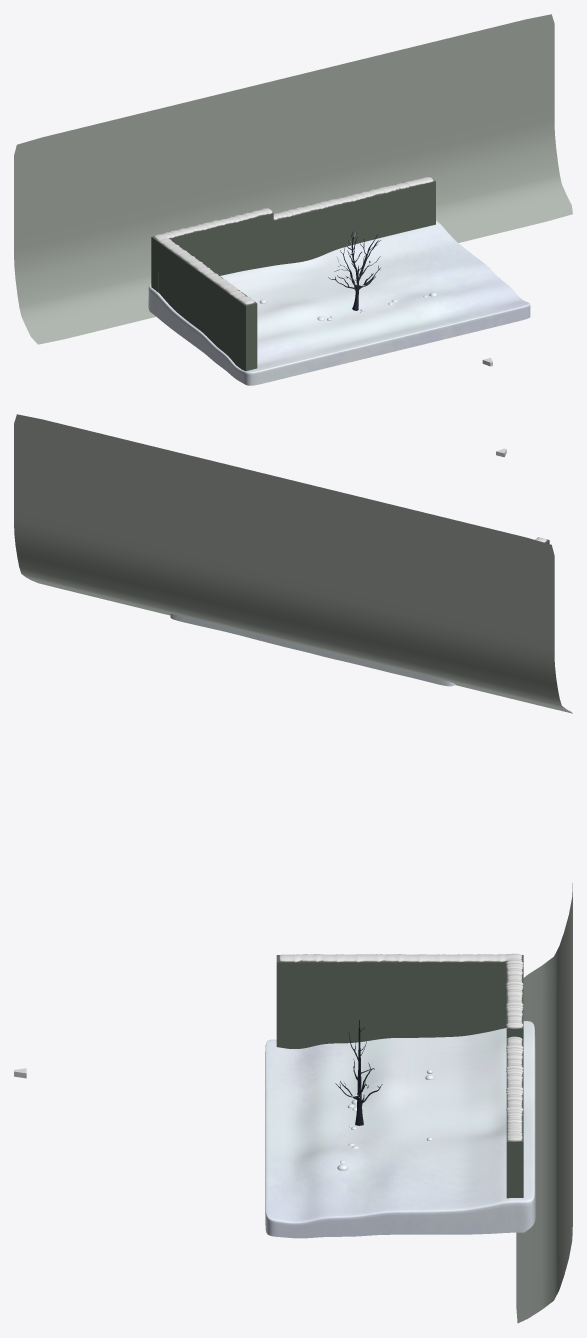
File: tree.fbx
3 views of the same model, one above another, from view 1: azimuth 30°, elevation 25°; view 2: azimuth 150°, elevation 25°; view 3: azimuth 270°, elevation 25° (orthographic). The views are drawn at different scales.
Parts seen in each view (by area): view 1: Plane, floor, wall, wall2, snow_wall, tree; view 2: Plane, floor; view 3: floor, wall2, Plane, snow_wall, wall, tree.
Part boxes in pixels (box(x1,y1,x2,y2)): Plane: box(14, 14, 572, 344); floor: box(148, 220, 530, 385); wall: box(151, 176, 435, 292); wall2: box(157, 241, 257, 371); snow_wall: box(154, 177, 433, 304); tree: box(328, 231, 380, 310); Plane: box(14, 414, 572, 713); floor: box(170, 614, 455, 686); floor: box(265, 1021, 535, 1238); wall2: box(276, 955, 506, 1048); Plane: box(516, 883, 572, 1323); snow_wall: box(279, 953, 523, 1141); wall: box(506, 955, 523, 1198); tree: box(335, 1019, 382, 1125).
Bounding box in the file's own units: 7064 × 2331 × 4848.
